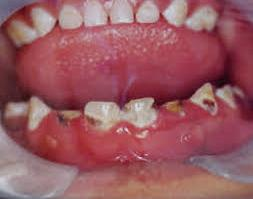Caries: (56, 108, 87, 125), (165, 98, 185, 120)
